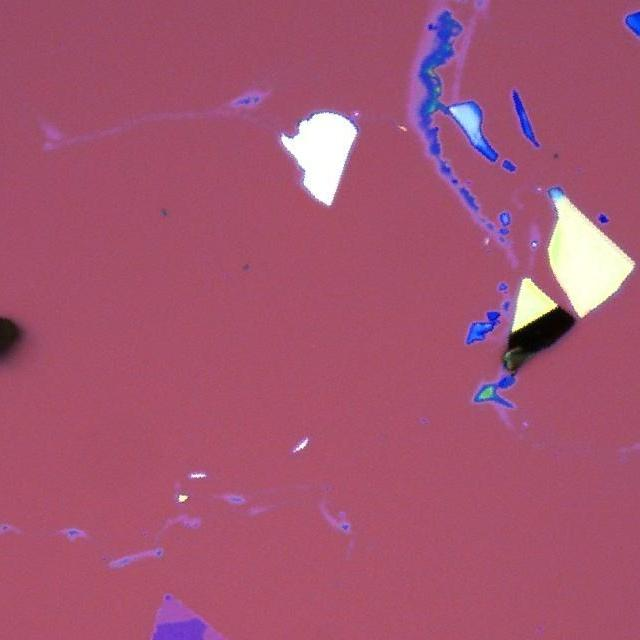monolayer-eWW4: (156, 600, 192, 624)
